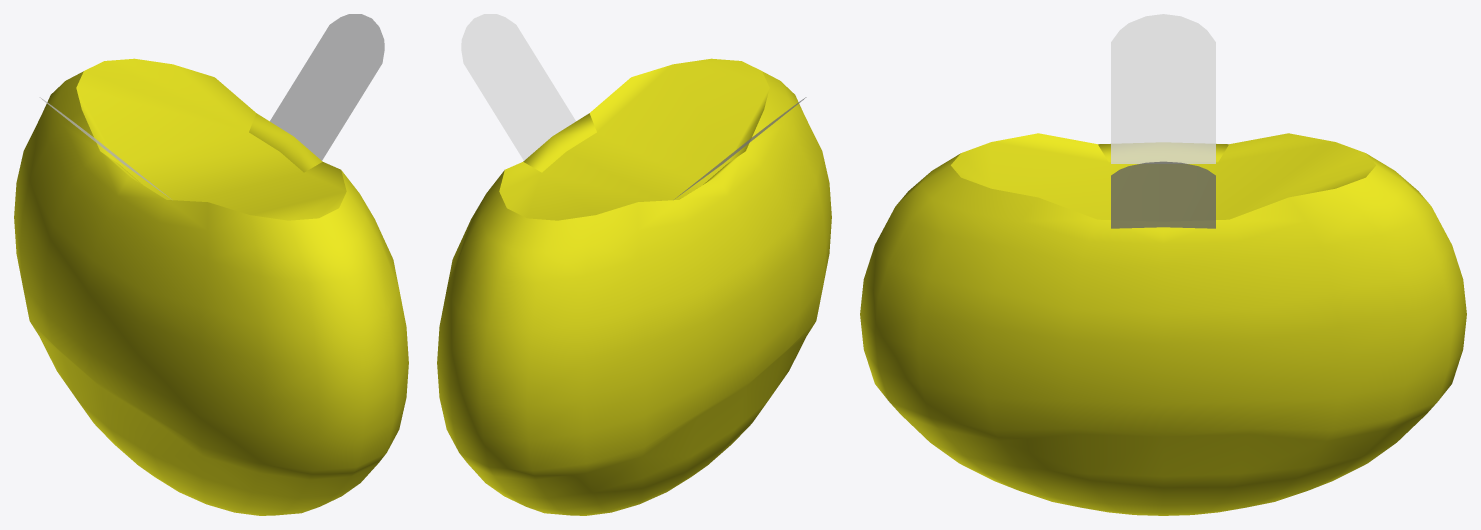
The model's file is jelly bean.fbx.
The picture shows the model from 3 angles, left to right: view 1: azimuth 30°, elevation 25°; view 2: azimuth 150°, elevation 25°; view 3: azimuth 270°, elevation 25°; orthographic projection.
Visible parts, largest first — view 1: pSphere1, pPlane1; view 2: pSphere1, pPlane1; view 3: pSphere1, pPlane2, pPlane1.
Part boxes in pixels (box(x1,y1,x2,y2)): pSphere1: box(14, 58, 408, 515); pPlane1: box(270, 14, 384, 160); pSphere1: box(437, 58, 831, 515); pPlane1: box(461, 14, 575, 160); pSphere1: box(860, 133, 1466, 515); pPlane2: box(1111, 14, 1215, 163); pPlane1: box(1111, 161, 1215, 228).
Bounding box in the file's own units: 5.75 × 7.3 × 9.49.
